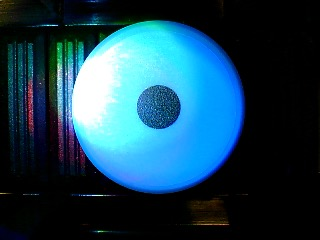BOHO: (70, 19, 245, 193)
